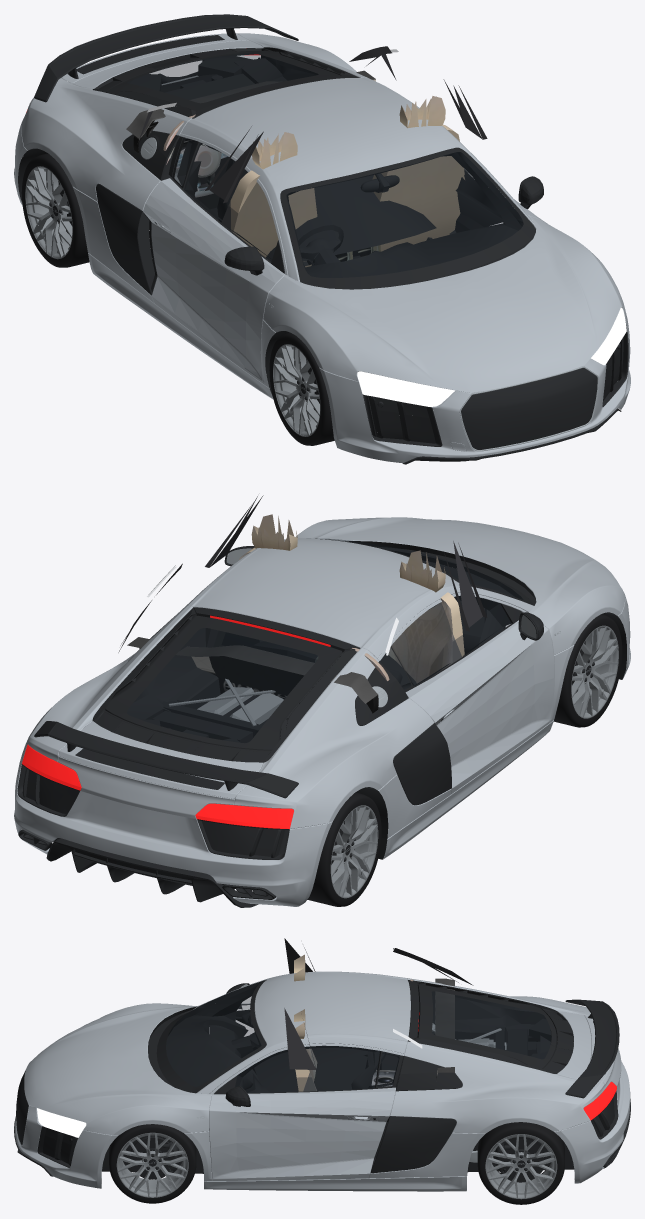
The picture shows the model from 3 angles, top to bottom: view 1: azimuth 30°, elevation 25°; view 2: azimuth 150°, elevation 25°; view 3: azimuth 270°, elevation 25°; orthographic projection. The views are drawn at different scales.
Visible parts, largest first — view 1: body color.011, glass window.002, body color.003, mercedes_interior_template, body color.014, door_fr_body color.002, body color.008, grille.004, interior 1.002, interior 1, black gloss.010, glass window.003 (+36 smaller); view 2: body color.014, body color.003, body color.012, body color.011, glass window.003, mercedes_interior_template, door_fr_body color.002, black gloss.004, trim.001, glass window, body color.007, black matt.010 (+34 smaller); view 3: body color.011, door_fl_body color.002, body color.014, body color.003, glass window.002, glass window.003, interior 1.002, glass window, trim.002, interior 1, body color.006, body color.002 (+39 smaller).
Boxes of the visible parts, x1,y1,x2,y2 form: body color.011: [263, 215, 625, 392]; glass window.002: [287, 152, 523, 277]; body color.003: [181, 77, 536, 281]; mercedes_interior_template: [126, 46, 464, 266]; body color.014: [21, 33, 366, 210]; door_fr_body color.002: [146, 182, 281, 372]; body color.008: [319, 305, 630, 463]; grille.004: [461, 368, 597, 449]; interior 1.002: [177, 140, 517, 277]; interior 1: [266, 175, 436, 261]; black gloss.010: [280, 147, 535, 289]; glass window.003: [127, 53, 317, 102]; body color.014: [21, 606, 434, 828]; body color.003: [182, 538, 533, 658]; body color.012: [14, 754, 332, 906]; body color.011: [296, 517, 625, 655]; glass window.003: [127, 628, 318, 742]; mercedes_interior_template: [118, 514, 464, 713]; door_fr_body color.002: [411, 621, 553, 794]; black gloss.004: [105, 615, 342, 750]; trim.001: [34, 721, 298, 798]; glass window: [391, 596, 510, 685]; body color.007: [58, 756, 234, 818]; black matt.010: [46, 838, 258, 907]; body color.011: [24, 1003, 212, 1135]; door_fl_body color.002: [211, 1089, 392, 1180]; body color.014: [390, 978, 605, 1133]; body color.003: [193, 971, 410, 1094]; glass window.002: [166, 982, 261, 1086]; glass window.003: [432, 991, 551, 1058]; interior 1.002: [166, 1009, 399, 1092]; glass window: [235, 1046, 379, 1091]; trim.002: [370, 1116, 456, 1173]; interior 1: [254, 1048, 386, 1092]; body color.006: [204, 1176, 466, 1191]; body color.002: [209, 1087, 395, 1180].
Bounding box in the file's own units: 1.97 × 1.4 × 4.43.
Materials: 11 (1 with a texture image).
